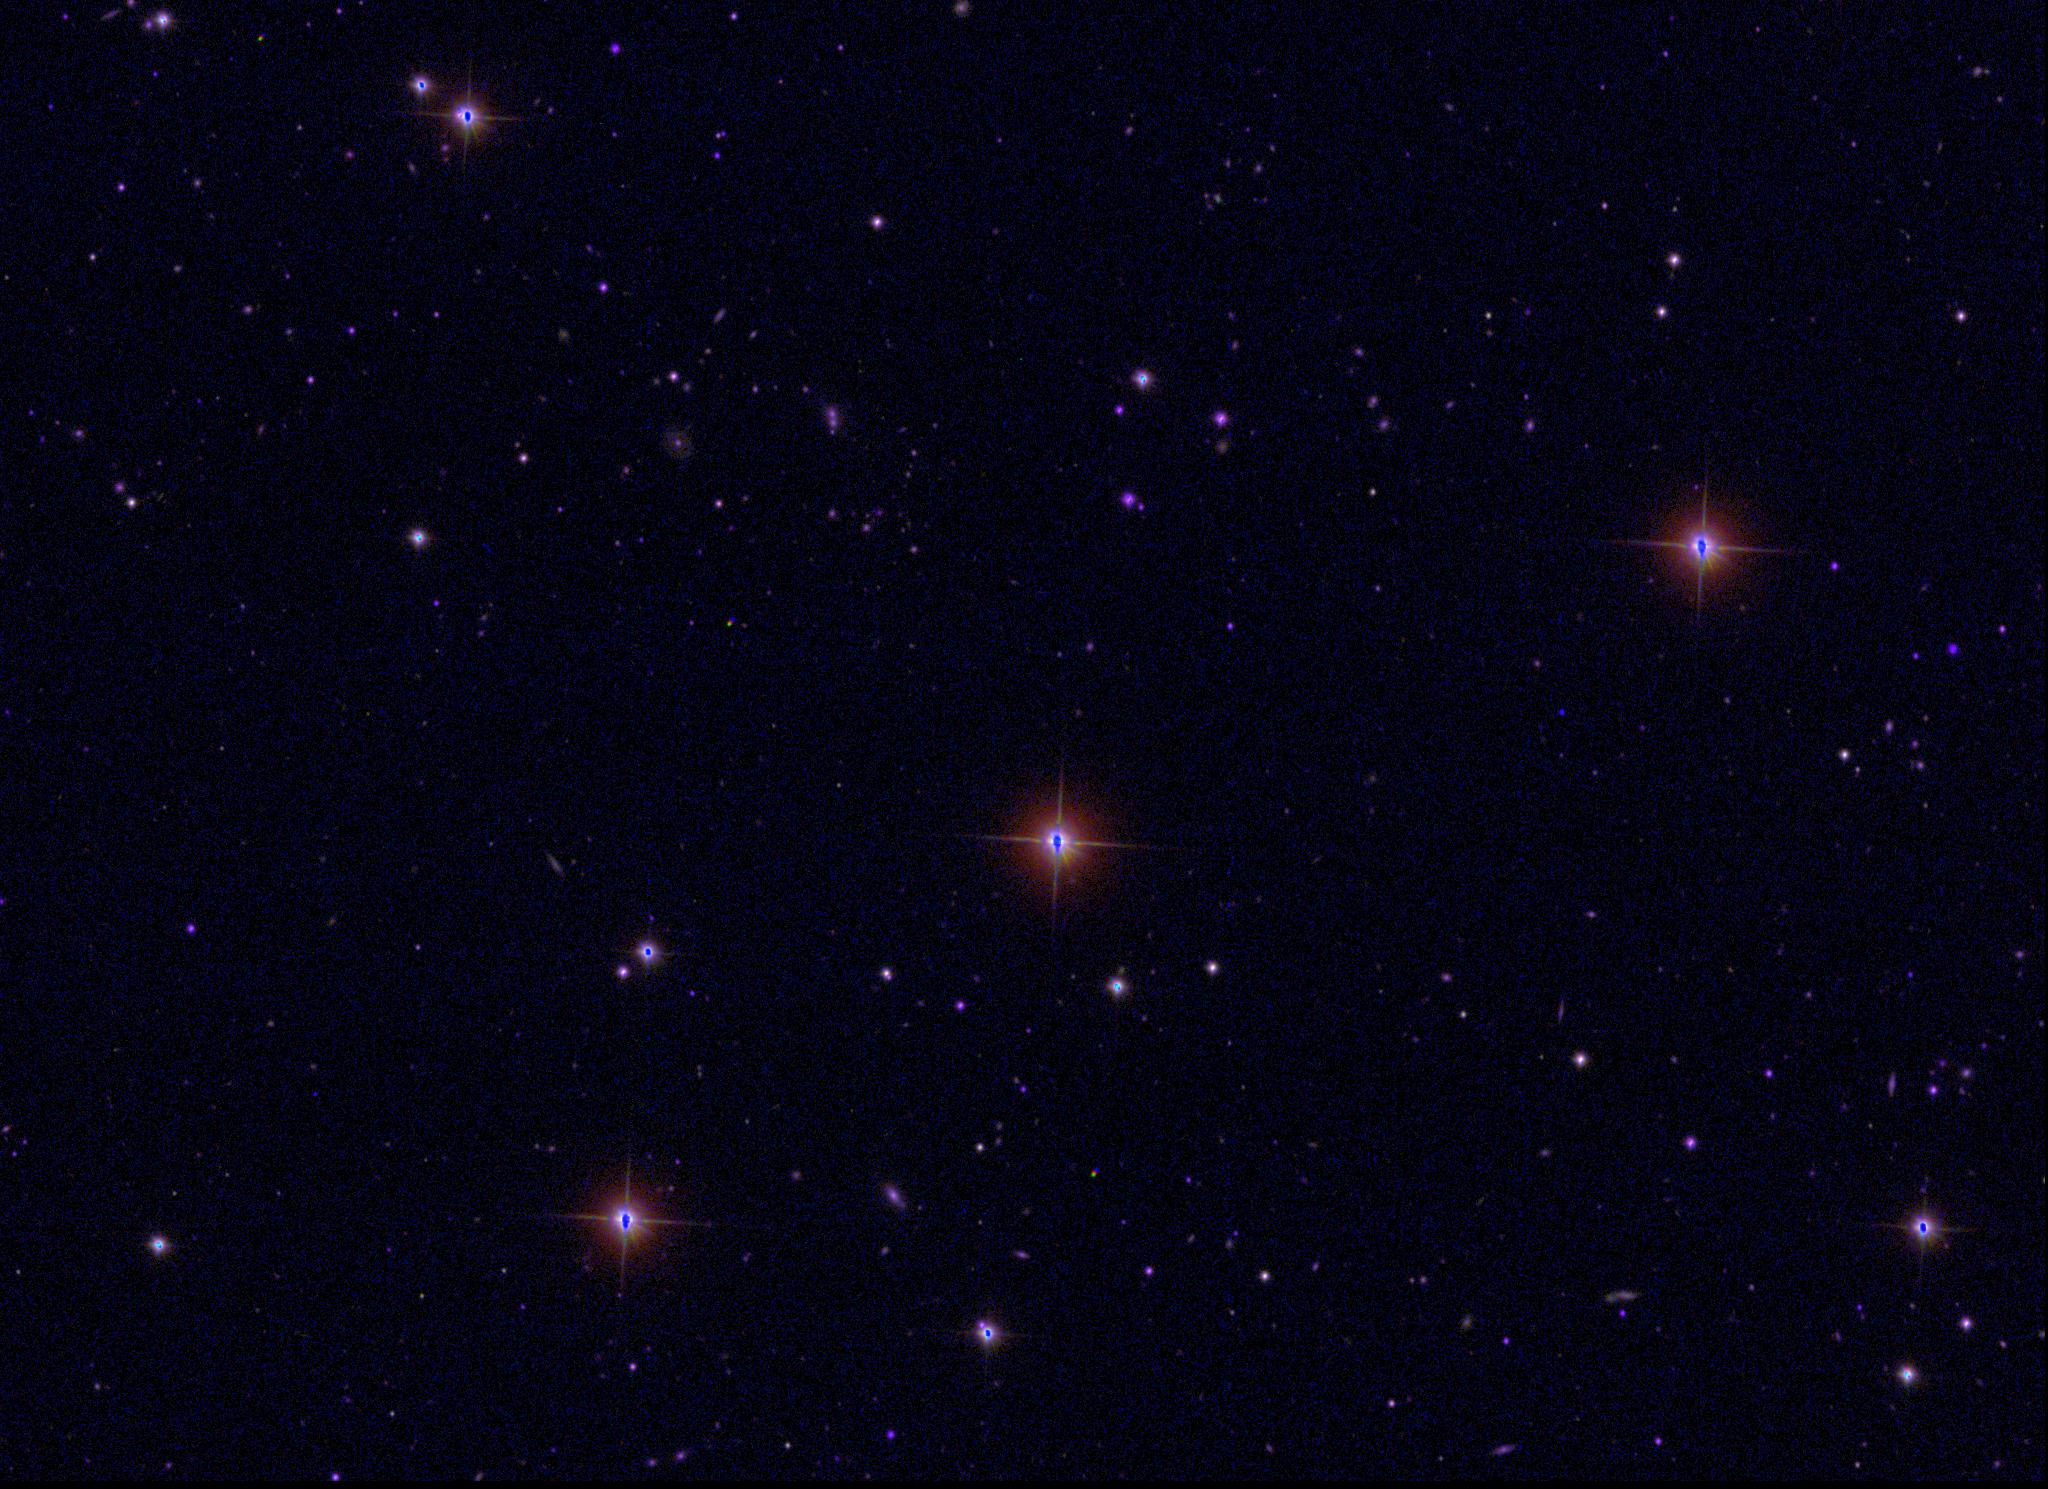L: (1553, 706, 1568, 721)
